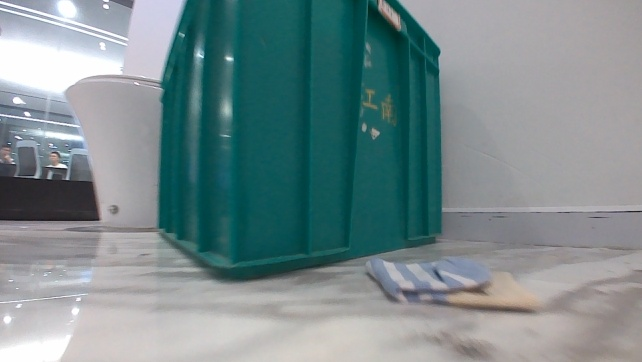socks: (362, 254, 542, 315)
toilet: (62, 70, 165, 231)
